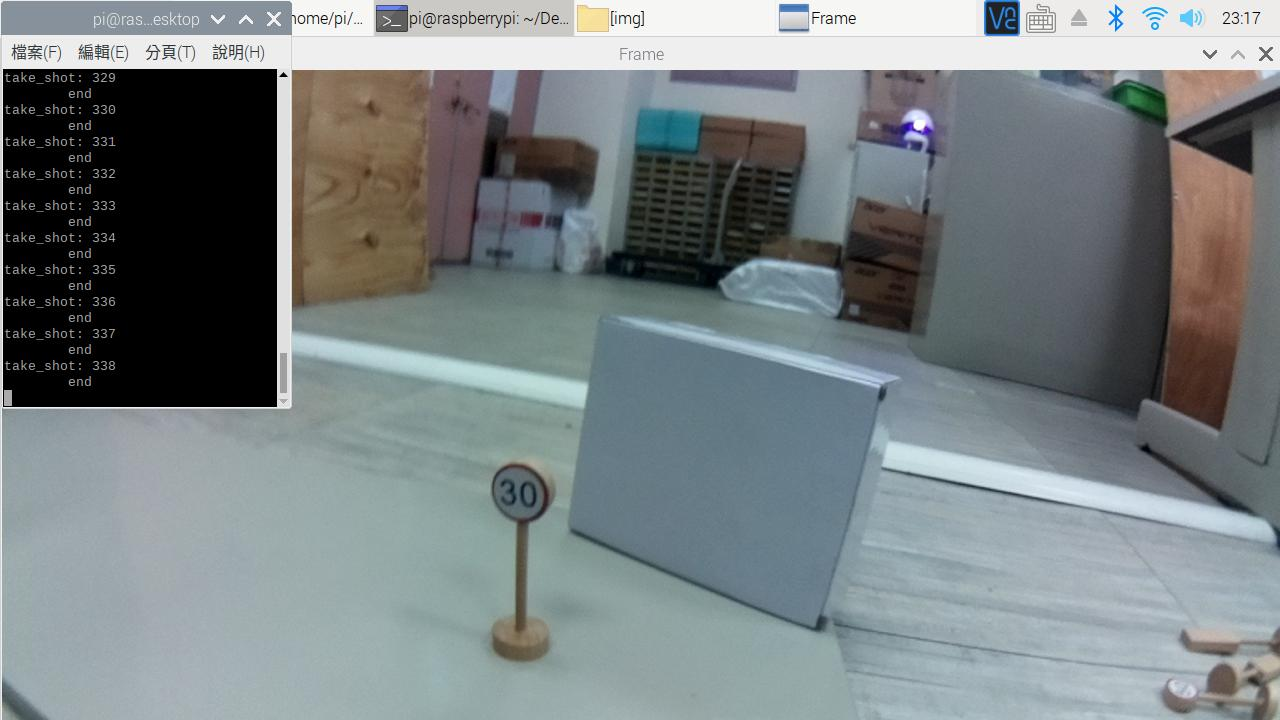Speed30: (461, 440, 582, 535)
